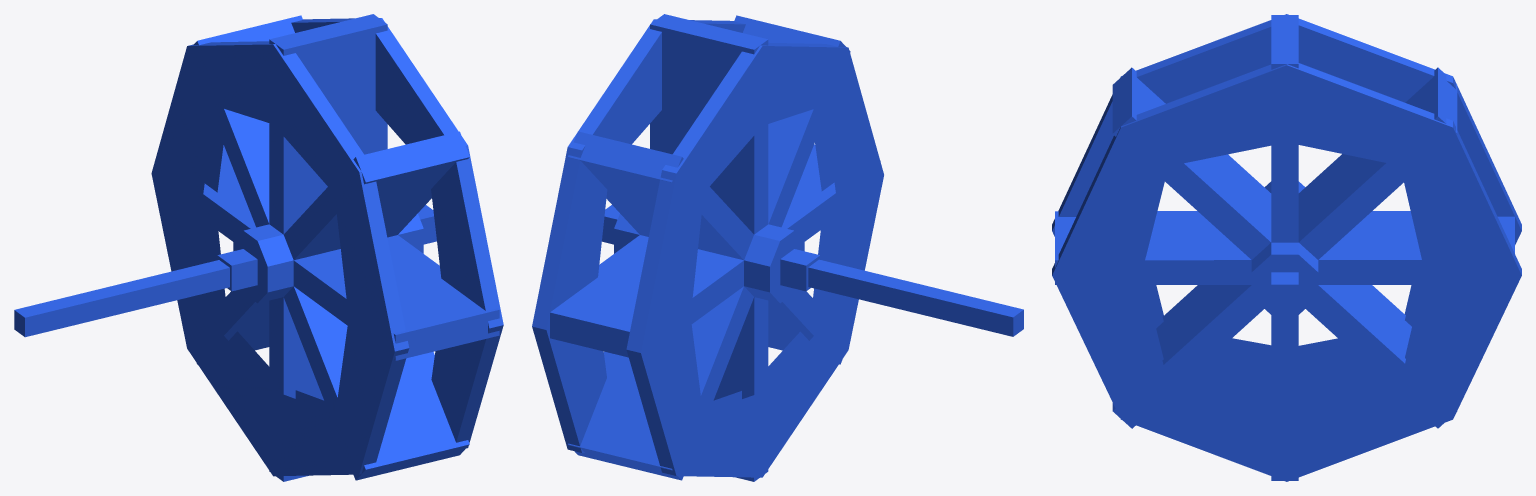
The model's file is Casa Molino 2.FBX.
3 renders of one model, left to right at view 1: azimuth 30°, elevation 25°; view 2: azimuth 150°, elevation 25°; view 3: azimuth 270°, elevation 25°, orthographic. The views are drawn at different scales.
Visible parts, largest first — view 1: Object001; view 2: Object001; view 3: Object001.
Boxes of the visible parts, box(x1,y1,x2,y2) form: Object001: box(14, 14, 503, 481); Object001: box(532, 14, 1023, 481); Object001: box(1052, 14, 1521, 481).
Size of the model in its own units: 69.7 by 69.67 by 71.12.
